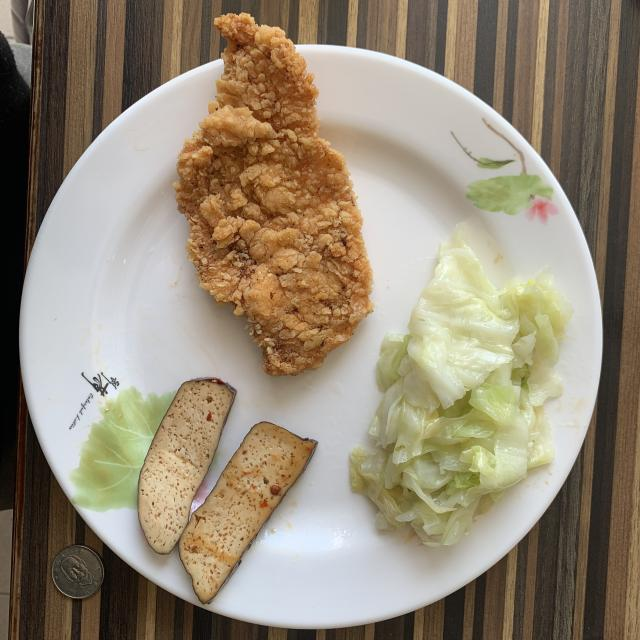cabbage: (350, 226, 572, 545)
coin: (51, 545, 104, 599)
firm tofu: (138, 379, 318, 604)
fried chicken cutlet: (174, 14, 372, 376)
